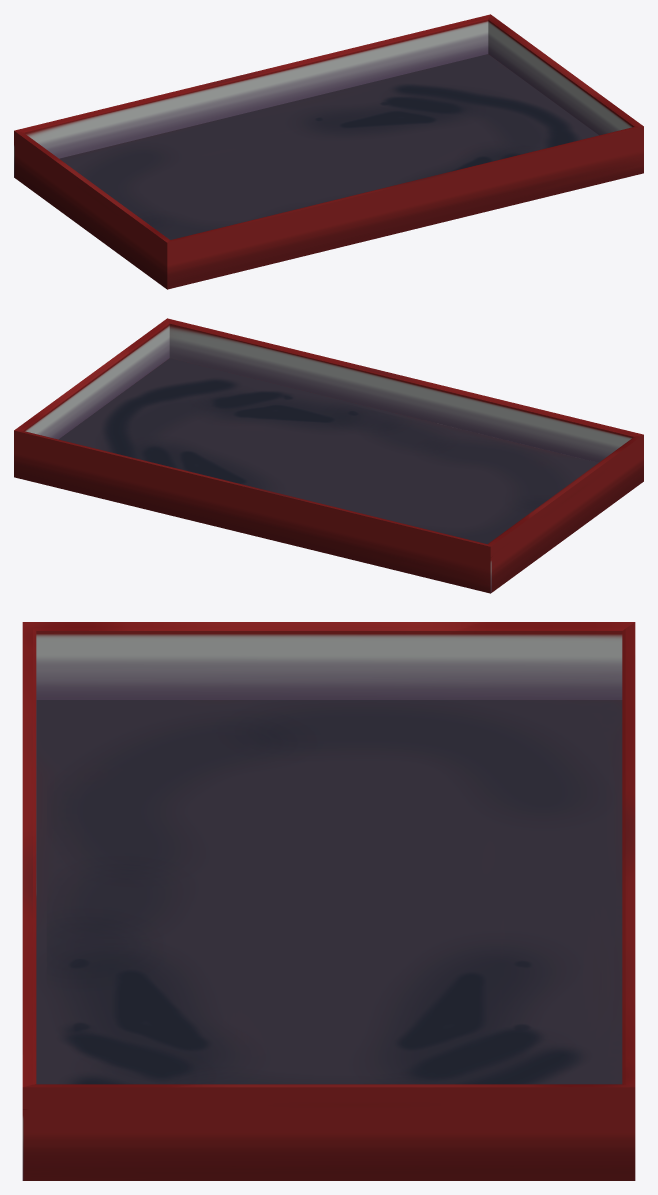
Rendered from board.obj.
The picture shows the model from 3 angles, top to bottom: view 1: azimuth 30°, elevation 25°; view 2: azimuth 150°, elevation 25°; view 3: azimuth 270°, elevation 25°; orthographic projection. The views are drawn at different scales.
Parts seen in each view (by area): view 1: Plane.009_Plane.010; view 2: Plane.009_Plane.010; view 3: Plane.009_Plane.010.
Boxes of the visible parts, x1=… form: Plane.009_Plane.010: x1=14, y1=14, x2=643, y2=289; Plane.009_Plane.010: x1=14, y1=318, x2=643, y2=593; Plane.009_Plane.010: x1=22, y1=622, x2=635, y2=1180.
Size of the model in its own units: 77.17 by 7.24 by 42.96.
